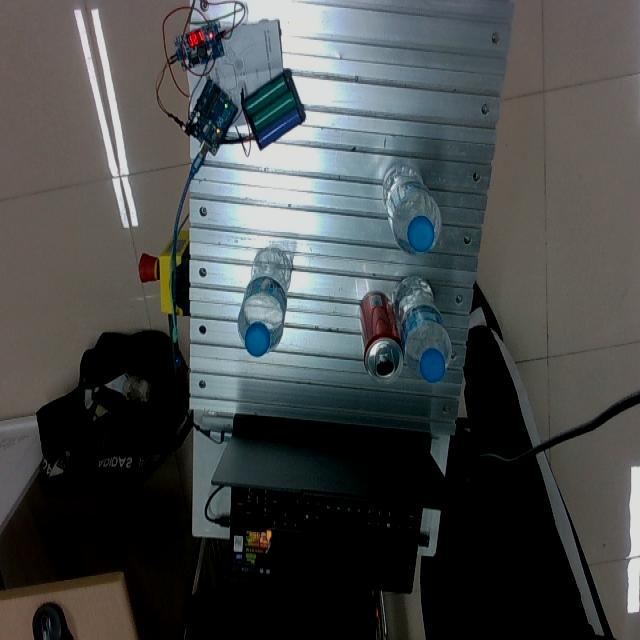coca: (358, 291, 404, 384)
lavie: (392, 276, 451, 380), (238, 248, 291, 356), (381, 167, 439, 256)
